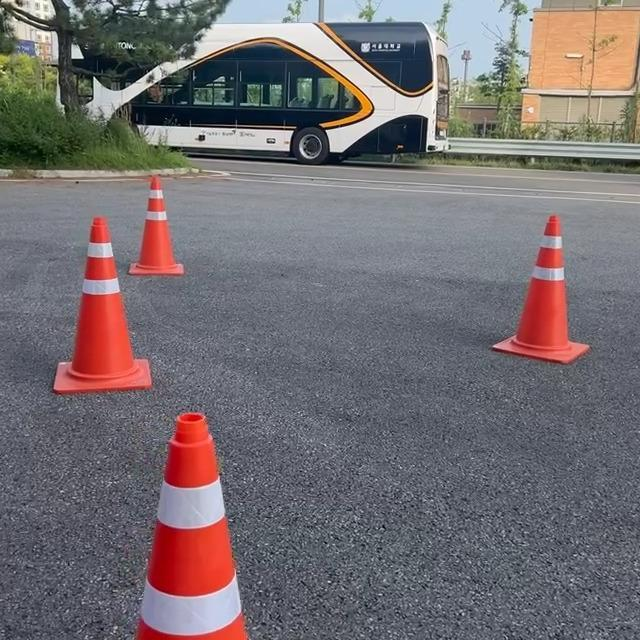fallen_object: (102, 402, 339, 640), (471, 210, 640, 419), (25, 239, 146, 423), (113, 156, 211, 306)
